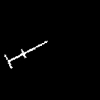double_crochet: (5, 41, 46, 67)
